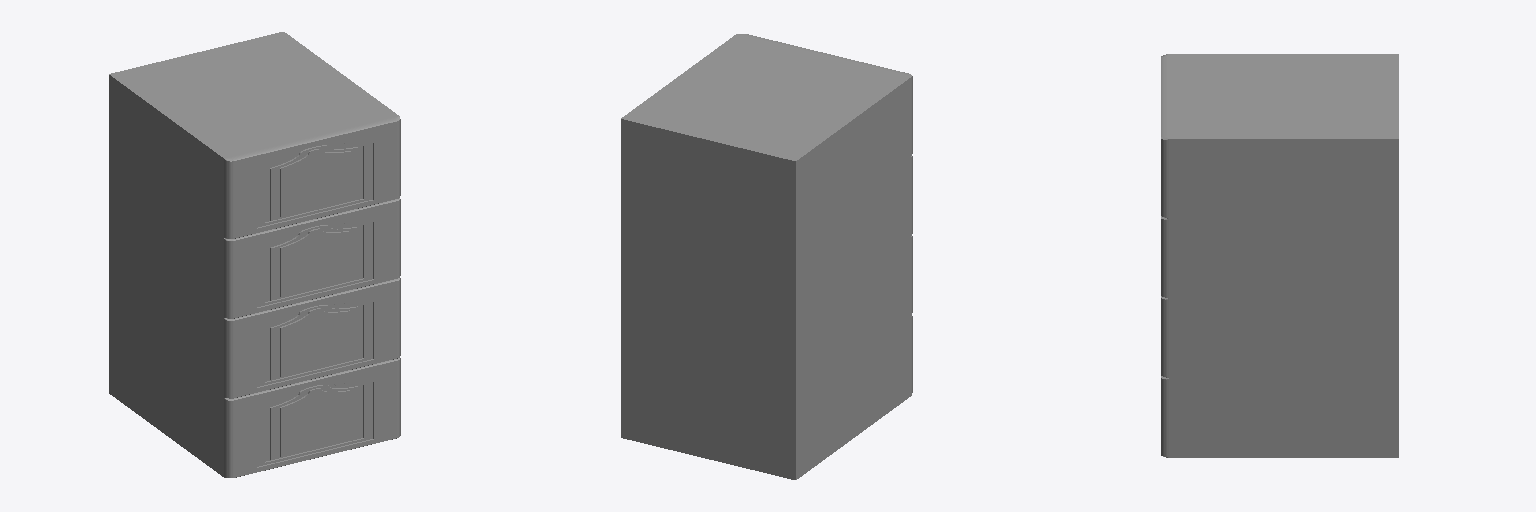
Rendered from drawer-pack-500.obj.
The picture shows the model from 3 angles: view 1: azimuth 30°, elevation 25°; view 2: azimuth 150°, elevation 25°; view 3: azimuth 270°, elevation 25°; orthographic projection.
Parts seen in each view (by area): view 1: Cube.002_Cube.004, Cube_Cube.002, Cube.006_Cube.005, Cube.004_Cube.000, Cube.005_Cube.001, Cube.003_Cube.008, Cube.001_Cube.003; view 2: Cube_Cube.002, Cube.002_Cube.004, Cube.001_Cube.003, Cube.006_Cube.005; view 3: Cube.001_Cube.003, Cube_Cube.002, Cube.006_Cube.005, Cube.003_Cube.008, Cube.005_Cube.001, Cube.004_Cube.000.
Boxes of the visible parts, <box> form: Cube.002_Cube.004: <box>109,73,227,476</box>; Cube_Cube.002: <box>115,33,392,156</box>; Cube.006_Cube.005: <box>224,116,400,238</box>; Cube.004_Cube.000: <box>224,278,400,398</box>; Cube.005_Cube.001: <box>224,198,400,318</box>; Cube.003_Cube.008: <box>224,358,400,477</box>; Cube.001_Cube.003: <box>279,32,398,116</box>; Cube_Cube.002: <box>626,36,904,478</box>; Cube.002_Cube.004: <box>791,76,910,479</box>; Cube.001_Cube.003: <box>621,34,740,438</box>; Cube.006_Cube.005: <box>737,34,912,155</box>; Cube.001_Cube.003: <box>1169,137,1398,457</box>; Cube_Cube.002: <box>1169,56,1398,136</box>; Cube.006_Cube.005: <box>1161,54,1168,218</box>; Cube.003_Cube.008: <box>1161,376,1168,457</box>; Cube.005_Cube.001: <box>1161,216,1168,298</box>; Cube.004_Cube.000: <box>1161,296,1168,377</box>.
Bounding box in the file's own units: 100 × 174 × 118.